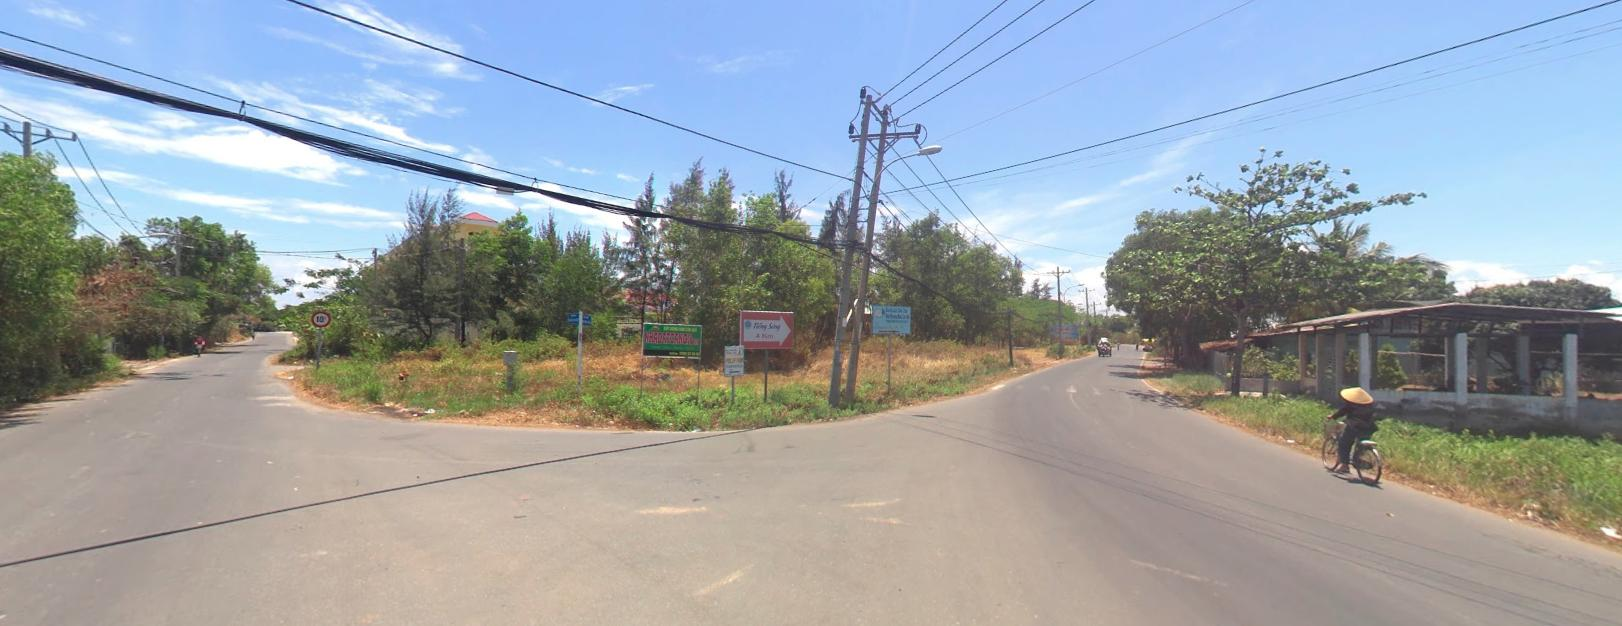Cam con lai: (311, 310, 329, 325), (311, 310, 328, 324)
